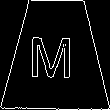M_N: (33, 29, 79, 80)
